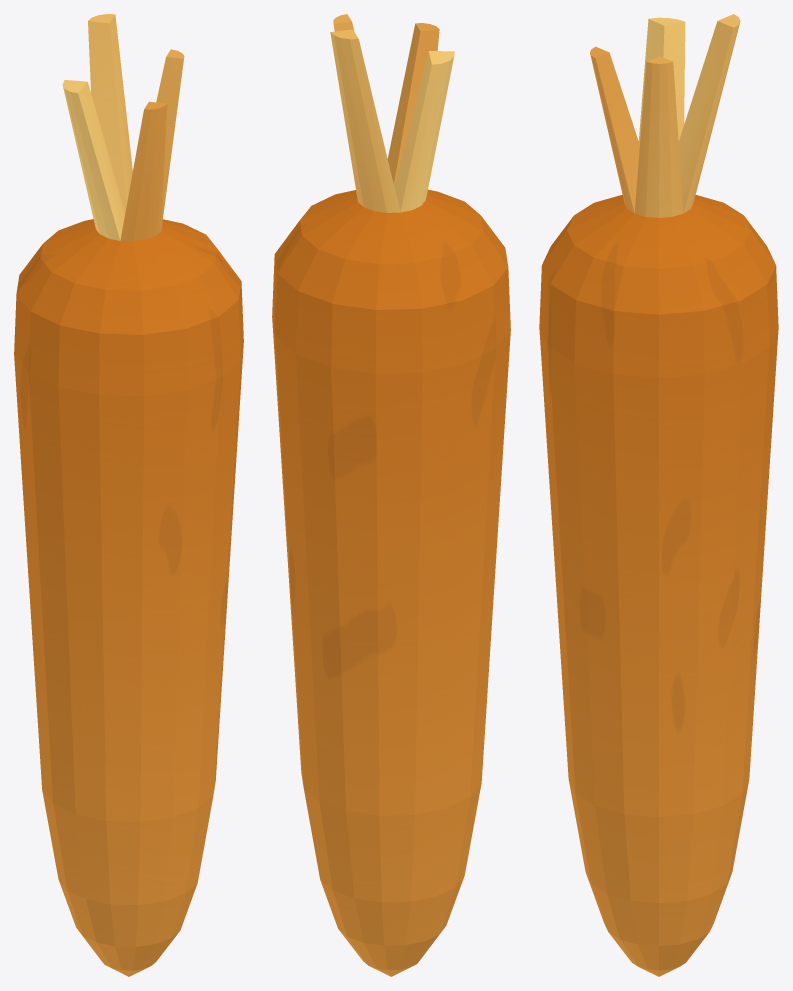
The model's file is carrot.glb.
3 views of the same model, side by side, from view 1: azimuth 30°, elevation 25°; view 2: azimuth 150°, elevation 25°; view 3: azimuth 270°, elevation 25° (orthographic). The views are drawn at different scales.
Visible parts, largest first — view 1: carrot; view 2: carrot; view 3: carrot.
Part boxes in pixels (x1,y1,x2,y2): carrot: (14, 14, 243, 976); carrot: (272, 14, 510, 976); carrot: (539, 14, 778, 976).
Bounding box in the file's own units: 1.49 × 6.61 × 1.49.
Materials: 1 (1 with a texture image).
